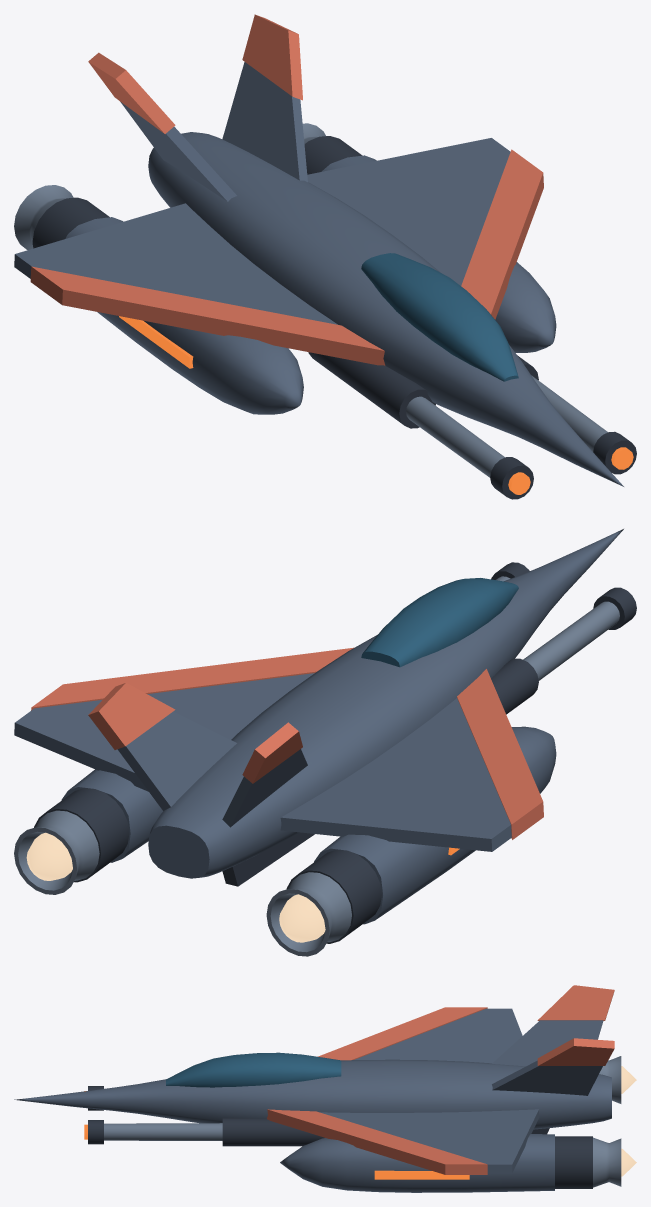
The model's file is void_interceptor.glb.
The picture shows the model from 3 angles, top to bottom: view 1: azimuth 30°, elevation 25°; view 2: azimuth 150°, elevation 25°; view 3: azimuth 270°, elevation 25°; orthographic projection. The views are drawn at different scales.
Visible parts, largest first — view 1: void_interceptor; view 2: void_interceptor; view 3: void_interceptor.
Boxes of the visible parts, left/top/right/bottom form: void_interceptor: left=14, top=14, right=636, bottom=499; void_interceptor: left=14, top=529, right=636, bottom=956; void_interceptor: left=14, top=985, right=636, bottom=1192.
Bounding box in the file's own units: 3.93 × 1.61 × 6.57.
